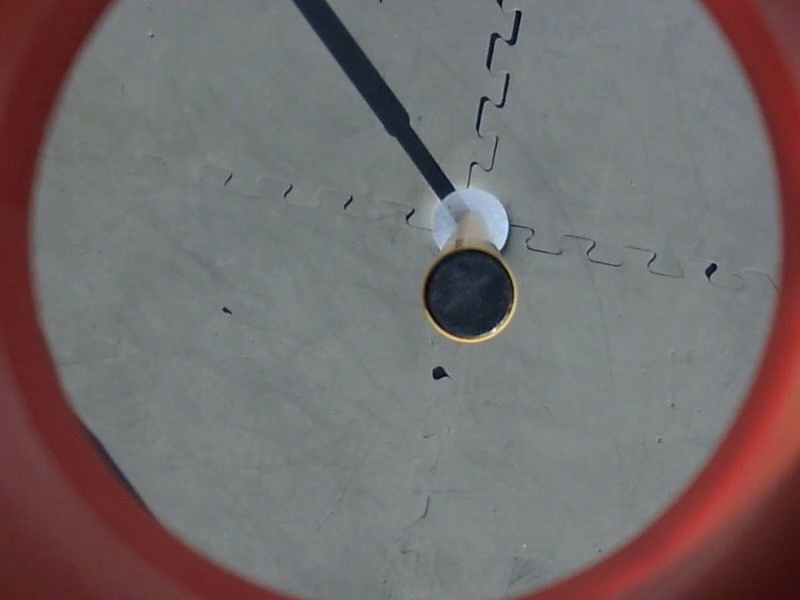tip: (418, 246, 517, 347)
